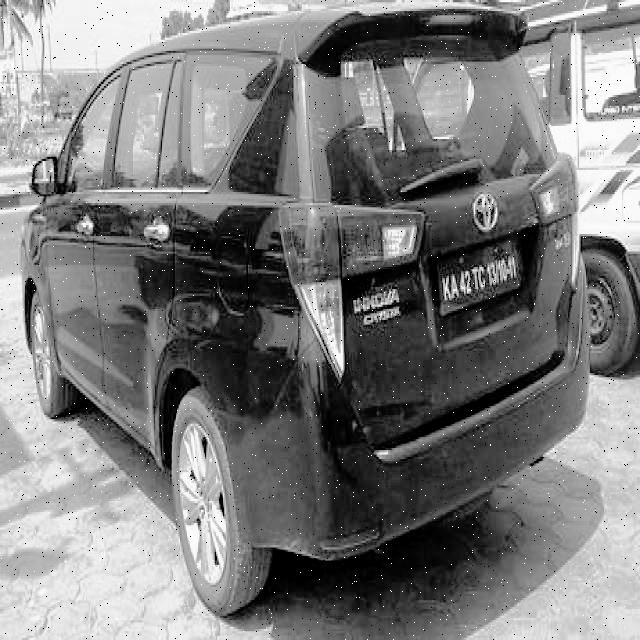Car: (18, 0, 588, 640)
